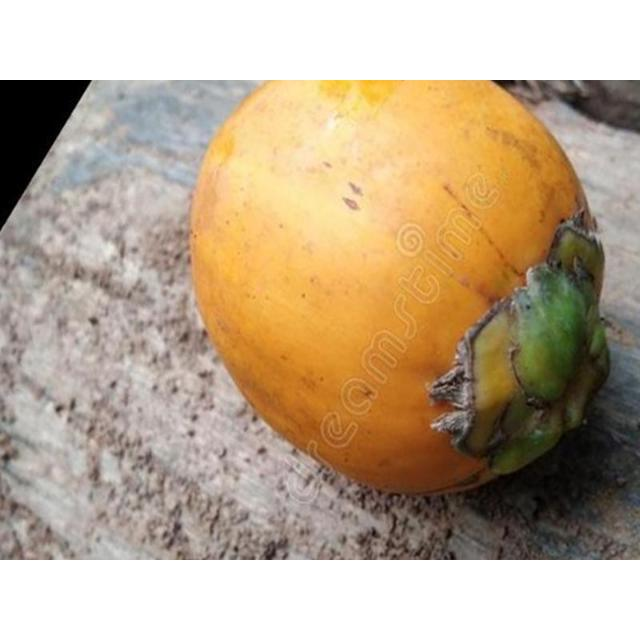good: (188, 80, 608, 498)
